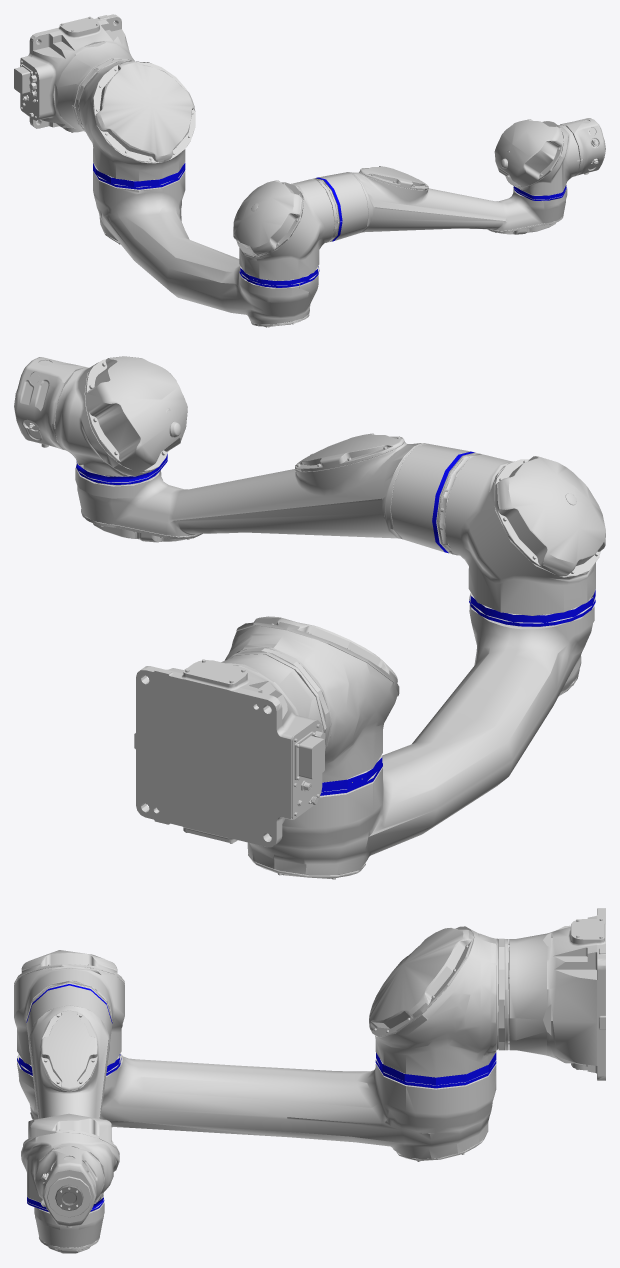
Rendered from YASKAWA_HC20DTP.glb.
3 views of the same model, one above another, from view 1: azimuth 30°, elevation 25°; view 2: azimuth 150°, elevation 25°; view 3: azimuth 270°, elevation 25° (orthographic). The views are drawn at different scales.
Visible parts, largest first — view 1: Arm_1, Joint_1, Arm_2, Joint_2, Base, Joint_3, ToolBase; view 2: Arm_1, Base, Arm_2, Joint_2, Joint_1, Joint_3, ToolBase; view 3: Arm_1, Joint_1, Base, Arm_2, Joint_2, Joint_3, ToolBase.
Part boxes in pixels (box(x1,y1,x2,y2)): Arm_1: box(93, 171, 318, 327); Joint_1: box(74, 59, 195, 189); Arm_2: box(315, 166, 567, 241); Joint_2: box(233, 178, 339, 287); Base: box(14, 14, 134, 132); Joint_3: box(494, 119, 579, 201); ToolBase: box(560, 118, 605, 176); Arm_1: box(247, 605, 594, 879); Base: box(134, 654, 325, 847); Arm_2: box(75, 433, 475, 553); Joint_2: box(437, 453, 605, 626); Joint_1: box(224, 616, 399, 796); Joint_3: box(54, 356, 187, 485); ToolBase: box(14, 357, 85, 449); Arm_1: box(17, 1054, 496, 1161); Joint_1: box(369, 926, 509, 1088); Base: box(509, 908, 605, 1080); Arm_2: box(26, 984, 112, 1253); Joint_2: box(14, 950, 124, 1075); Joint_3: box(21, 1113, 119, 1212); ToolBase: box(34, 1146, 104, 1227).
Size of the model in its own units: 1.29 by 0.5474 by 1.32.
